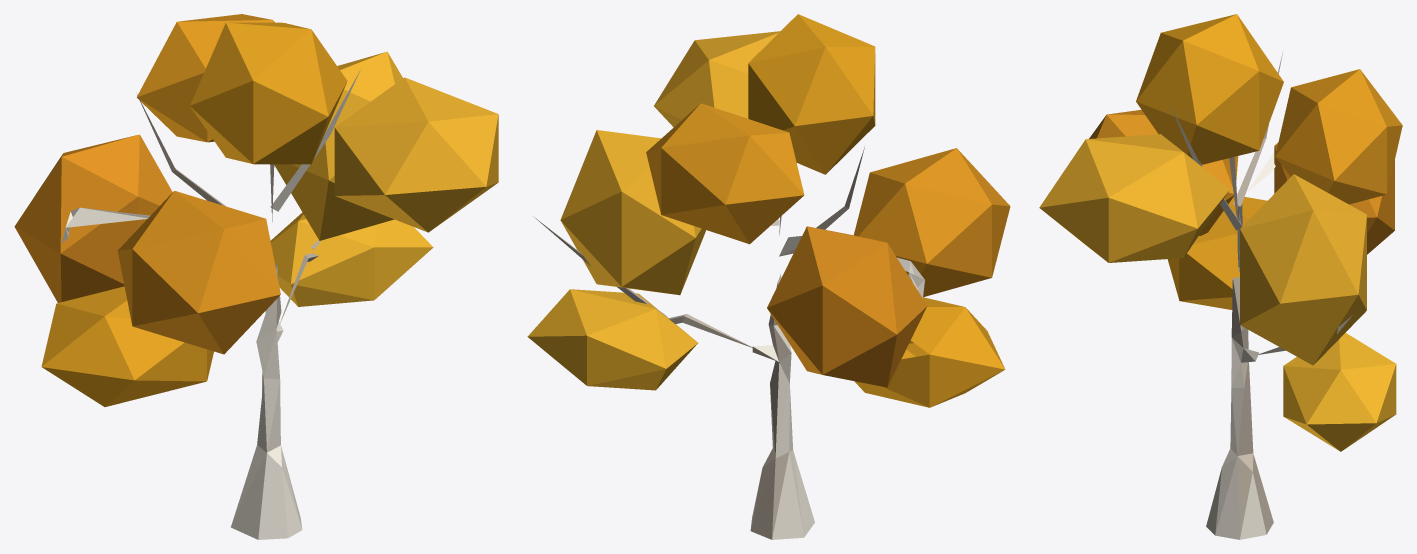
Rendered from birch_autumn_far.glb.
The picture shows the model from 3 angles, left to right: view 1: azimuth 30°, elevation 25°; view 2: azimuth 150°, elevation 25°; view 3: azimuth 270°, elevation 25°; orthographic projection. The views are drawn at different scales.
Parts seen in each view (by area): view 1: birch_autumn_far; view 2: birch_autumn_far; view 3: birch_autumn_far.
Boxes of the visible parts, x1,y1,x2,y2 form: birch_autumn_far: (14, 14, 498, 539); birch_autumn_far: (527, 14, 1010, 539); birch_autumn_far: (1039, 14, 1402, 539).
Size of the model in its own units: 6.32 by 7.14 by 4.79.
